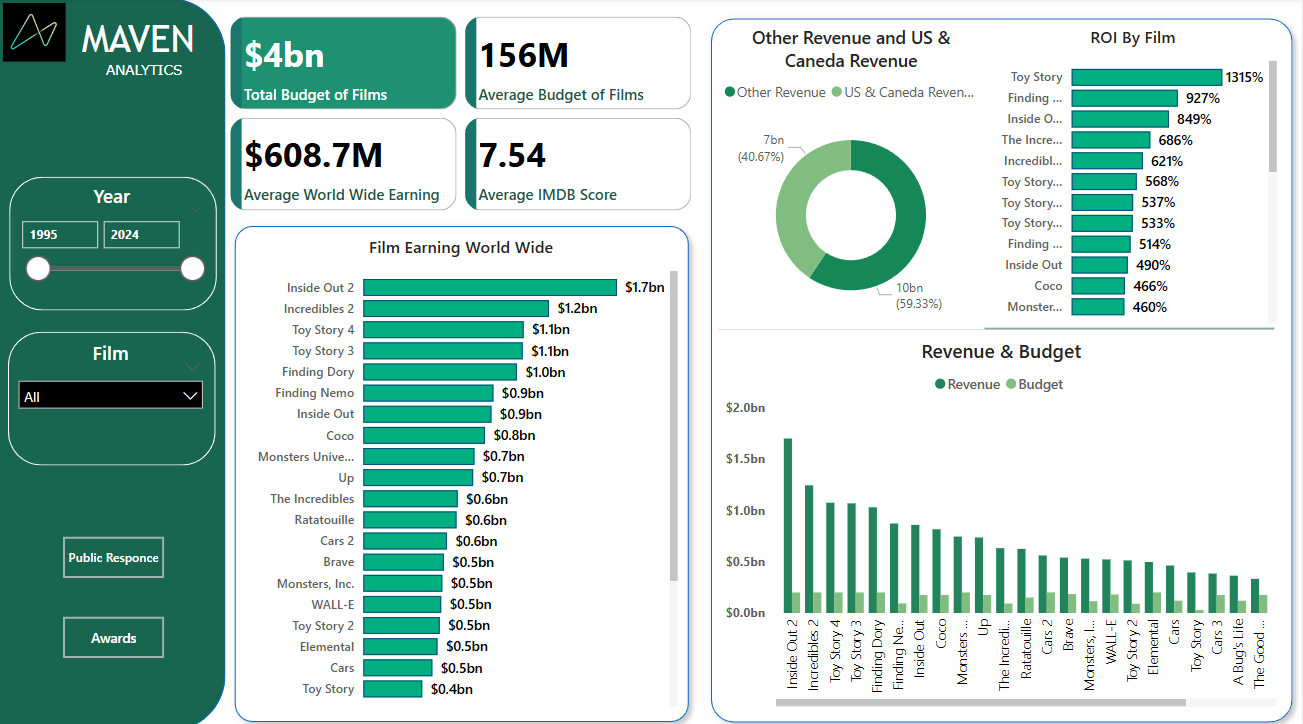

Layout of this report page (visuals, bound fields, positions):
{"tool":"powerbi","page":{"name":"DashBoard","canvas":[1280,720],"ordinal":0},"visuals":[{"type":"group","id":"g1","title":"DashBoard","box":[0,0,1280,720.6],"z":0},{"type":"shape","box":[0,0,223.3,720.2],"z":0,"group":"g2"},{"type":"shape","box":[691,11.4,589,709.2],"z":0,"group":"g4"},{"type":"cardVisual","fields":{"Data":["Measures (2).Total_Budget","Measures (2).Avg_budget","Measures (2).WorldWide_avg_earning","Avg(public_response.imdb_score)"]},"box":[223.7,13.7,463.8,201.7],"z":0,"group":"g1"},{"type":"shape","box":[11,175.5,203.7,131.3],"z":0,"group":"g6"},{"type":"shape","box":[223.3,214.7,463.8,505],"z":0,"group":"g3"},{"type":"shape","box":[9.4,327.8,203.7,131.3],"z":0,"group":"g5"},{"type":"group","id":"g2","title":"Heading And Shape","box":[0,0,223.3,720.2],"z":1000,"group":"g1"},{"type":"image","box":[0,0,71.4,67.2],"z":1000,"group":"g2"},{"type":"donutChart","fields":{"Y":["Measures (2).Other earning","Measures (2).US&Caneda Revenue"]},"box":[706.8,27,261.4,298.2],"z":1000},{"type":"slicer","title":"Year","fields":{"Values":["pixar_films.Year_income"]},"box":[11,181.6,201.2,133.7],"z":1000,"group":"g6"},{"type":"clusteredBarChart","title":"Film Earning World Wide","fields":{"Category":["box_office.film"],"Y":["Measures (2).TOtal_Earning_world"]},"box":[236.4,232.5,435.6,467.5],"z":1000,"group":"g3"},{"type":"shape","box":[706.7,315.4,546,18.4],"z":1000,"group":"g4"},{"type":"slicer","title":"Film","fields":{"Values":["box_office.film"]},"box":[9.4,335.2,201.2,133.7],"z":1000,"group":"g5"},{"type":"textbox","box":[71.4,13.7,144.1,87.8],"z":2000,"group":"g2"},{"type":"group","id":"g3","title":"Film Earning World Wide","box":[223.3,214.7,463.8,505.5],"z":2000,"group":"g1"},{"type":"clusteredColumnChart","title":"Revenue & Budget","fields":{"Category":["box_office.film"],"Y":["Measures (2).Total_Earning_world","Measures (2).Total_Budget"]},"box":[709.2,333.7,550.9,366.9],"z":2000},{"type":"group","id":"g4","title":"Award And Other Shaoes","box":[691,11.4,589,709.2],"z":3000,"group":"g1"},{"type":"clusteredBarChart","title":"ROI By Film","fields":{"Category":["box_office.film"],"Y":["Measures (2).Roi film"]},"box":[968.1,27,292,298.2],"z":3000},{"type":"group","id":"g5","title":"Slicer 2","box":[9.4,327.8,204.2,141.1],"z":4000},{"type":"actionButton","box":[63.8,528.8,99.4,40.5],"z":4000,"group":"g1"},{"type":"actionButton","box":[63.8,607.4,99.4,40.5],"z":5000},{"type":"group","id":"g6","title":"slicer 1","box":[11,175.5,203.7,139.9],"z":6000}]}

Visuals, with their boxes in screenshot pixels (x1, y1, x2, y2), scaled from the page's 1280x720 canvas onto the 1303x724 screenshot:
"DashBoard" group: (left=0, top=0, right=1302, bottom=723)
shape: (left=0, top=0, right=227, bottom=723)
shape: (left=703, top=11, right=1302, bottom=723)
cardVisual - Measures (2).Total_Budget x Measures (2).Avg_budget: (left=228, top=14, right=700, bottom=217)
shape: (left=11, top=176, right=219, bottom=309)
shape: (left=227, top=216, right=699, bottom=723)
shape: (left=10, top=330, right=217, bottom=462)
"Heading And Shape" group: (left=0, top=0, right=227, bottom=723)
image: (left=0, top=0, right=73, bottom=68)
donutChart - Measures (2).Other earning x Measures (2).US&Caneda Revenue: (left=720, top=27, right=986, bottom=327)
"Year" slicer: (left=11, top=183, right=216, bottom=317)
"Film Earning World Wide" clusteredBarChart: (left=241, top=234, right=684, bottom=704)
shape: (left=719, top=317, right=1275, bottom=336)
"Film" slicer: (left=10, top=337, right=214, bottom=472)
textbox: (left=73, top=14, right=219, bottom=102)
"Film Earning World Wide" group: (left=227, top=216, right=699, bottom=723)
"Revenue & Budget" clusteredColumnChart: (left=722, top=336, right=1283, bottom=704)
"Award And Other Shaoes" group: (left=703, top=11, right=1302, bottom=723)
"ROI By Film" clusteredBarChart: (left=985, top=27, right=1283, bottom=327)
"Slicer 2" group: (left=10, top=330, right=217, bottom=472)
actionButton: (left=65, top=532, right=166, bottom=572)
actionButton: (left=65, top=611, right=166, bottom=651)
"slicer 1" group: (left=11, top=176, right=219, bottom=317)
